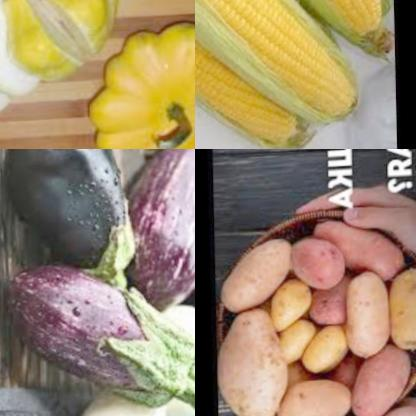corn: (195, 0, 360, 140), (195, 0, 313, 149), (195, 0, 388, 61)
eggplant: (0, 249, 195, 416), (5, 149, 143, 303), (118, 149, 195, 338)
potato: (213, 306, 289, 416), (312, 212, 408, 294), (212, 238, 290, 319), (336, 269, 390, 365), (345, 348, 409, 416), (284, 229, 341, 298), (270, 374, 349, 416), (290, 325, 348, 379), (384, 266, 416, 361), (258, 282, 311, 333), (300, 286, 344, 335), (269, 322, 313, 368)
squash-patisson: (79, 23, 195, 149), (0, 0, 81, 88), (32, 0, 128, 70), (0, 0, 33, 110)
